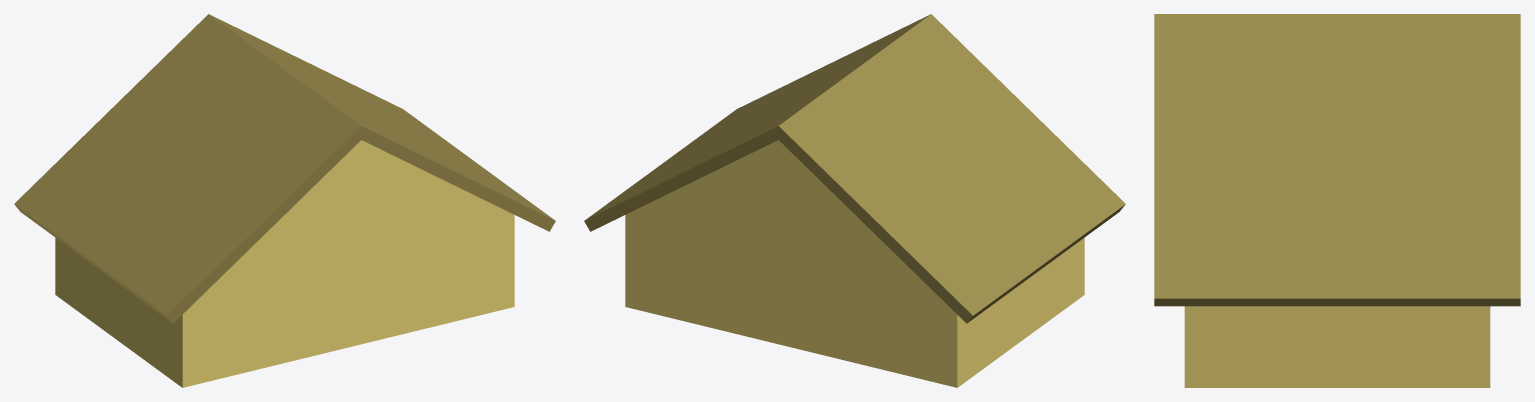
Rendered from result.glb.
3 renders of one model, left to right at view 1: azimuth 30°, elevation 25°; view 2: azimuth 150°, elevation 25°; view 3: azimuth 270°, elevation 25°, orthographic. The views are drawn at different scales.
Visible parts, largest first — view 1: 6843c828-f515-43de-9f84-2c62533dc5f4__undefined (×2), 69081a96-f237-4bdf-80a0-d60b72cad9e5__undefined; view 2: 6843c828-f515-43de-9f84-2c62533dc5f4__undefined (×2), 69081a96-f237-4bdf-80a0-d60b72cad9e5__undefined; view 3: 6843c828-f515-43de-9f84-2c62533dc5f4__undefined, 69081a96-f237-4bdf-80a0-d60b72cad9e5__undefined.
Part boxes in pixels (x1=…): 6843c828-f515-43de-9f84-2c62533dc5f4__undefined (×2): x1=14, y1=14, x2=555, y2=323; 69081a96-f237-4bdf-80a0-d60b72cad9e5__undefined: x1=55, y1=140, x2=514, y2=387; 6843c828-f515-43de-9f84-2c62533dc5f4__undefined (×2): x1=584, y1=14, x2=1125, y2=323; 69081a96-f237-4bdf-80a0-d60b72cad9e5__undefined: x1=625, y1=140, x2=1084, y2=387; 6843c828-f515-43de-9f84-2c62533dc5f4__undefined: x1=1154, y1=14, x2=1520, y2=306; 69081a96-f237-4bdf-80a0-d60b72cad9e5__undefined: x1=1184, y1=306, x2=1490, y2=387.
Size of the model in its own units: 882 by 500 by 600.
